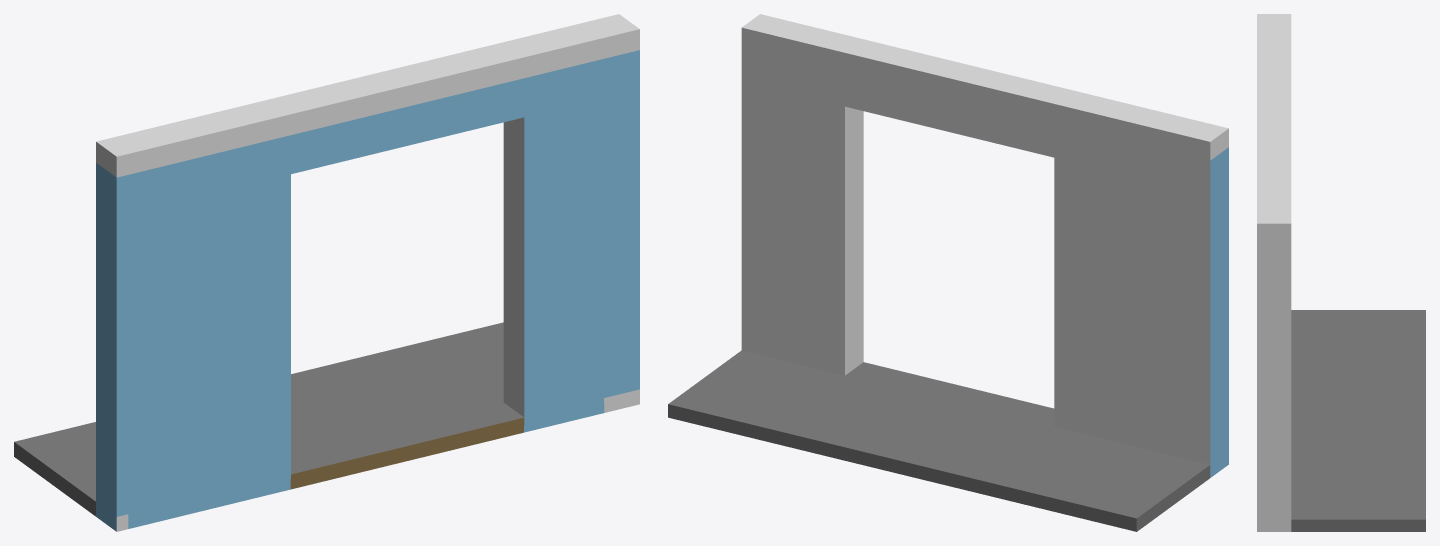
The model's file is FacadeBedroom.fbx.
The picture shows the model from 3 angles, left to right: view 1: azimuth 30°, elevation 25°; view 2: azimuth 150°, elevation 25°; view 3: azimuth 270°, elevation 25°; orthographic projection. The views are drawn at different scales.
Parts seen in each view (by area): view 1: Flat.005; view 2: Flat.005; view 3: Flat.005.
Boxes of the visible parts, x1,y1,x2,y2 form: Flat.005: (14, 14, 639, 531); Flat.005: (668, 14, 1228, 531); Flat.005: (1257, 14, 1425, 531).
Size of the model in its own units: 3647 by 2500 by 1241.
